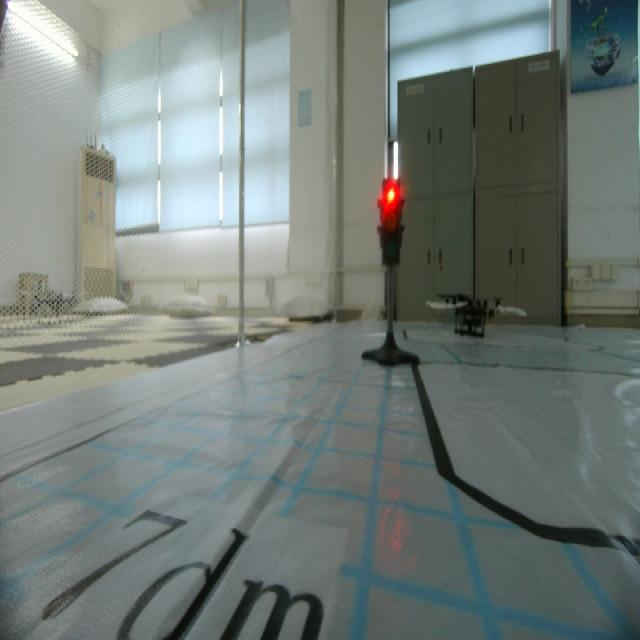red: (377, 169, 405, 271)
